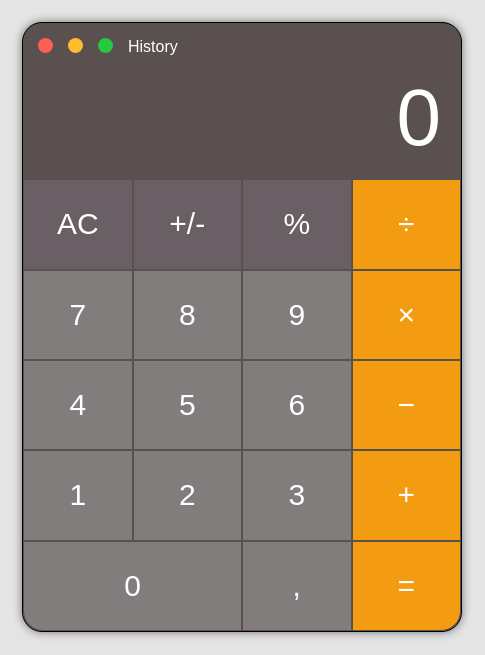
Scenario: Calculator Component › should perform addition operation
Click the button "1".
click(78, 496)  # box [23,450,132,541]
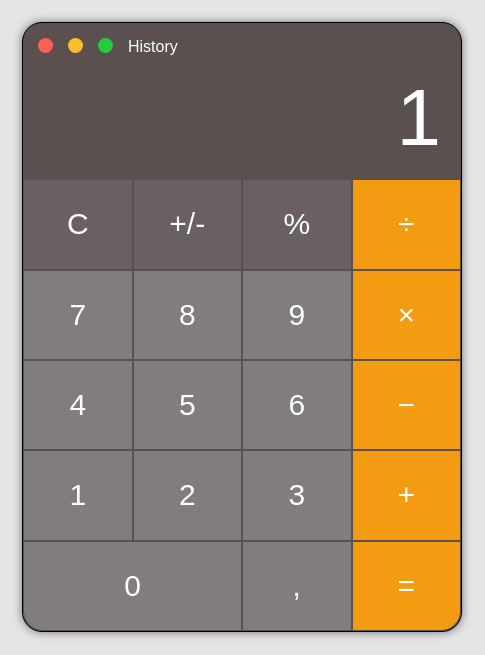
Click the button "+".
click(406, 496)  # box [352,450,461,541]
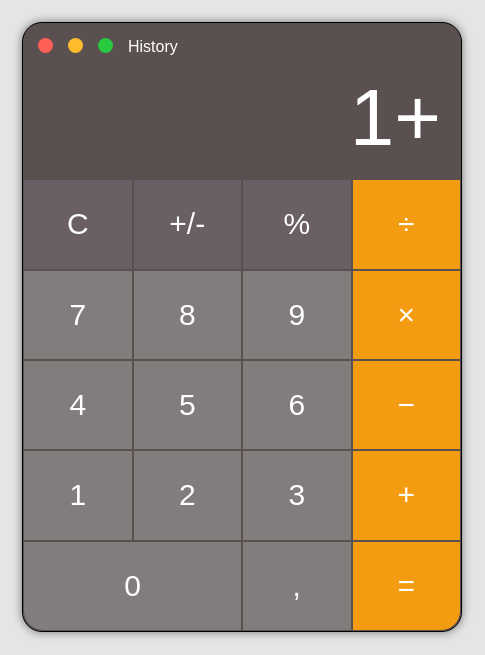
Click the button "1".
click(78, 496)  # box [23,450,132,541]
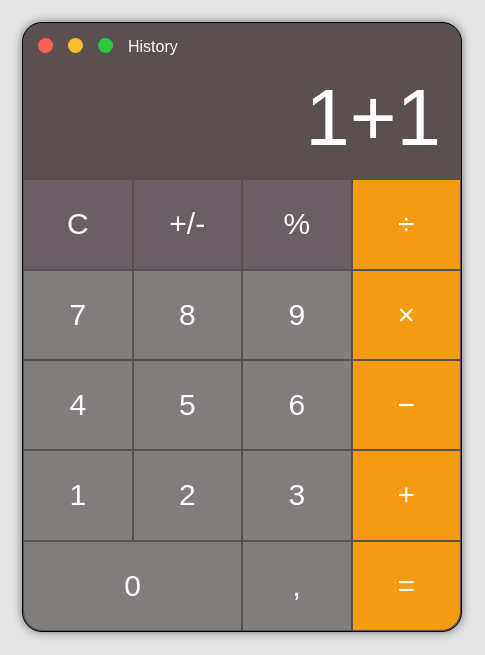
Click the button "=".
click(406, 586)  # box [352,541,461,631]
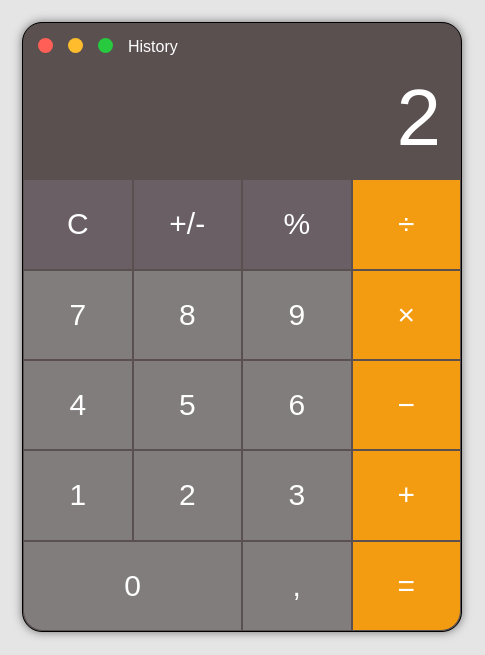
Expected: the field with placeholder "0" holds "2", [38,71,441,173]
